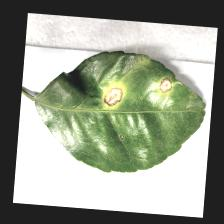canker: (87, 57, 181, 112)
